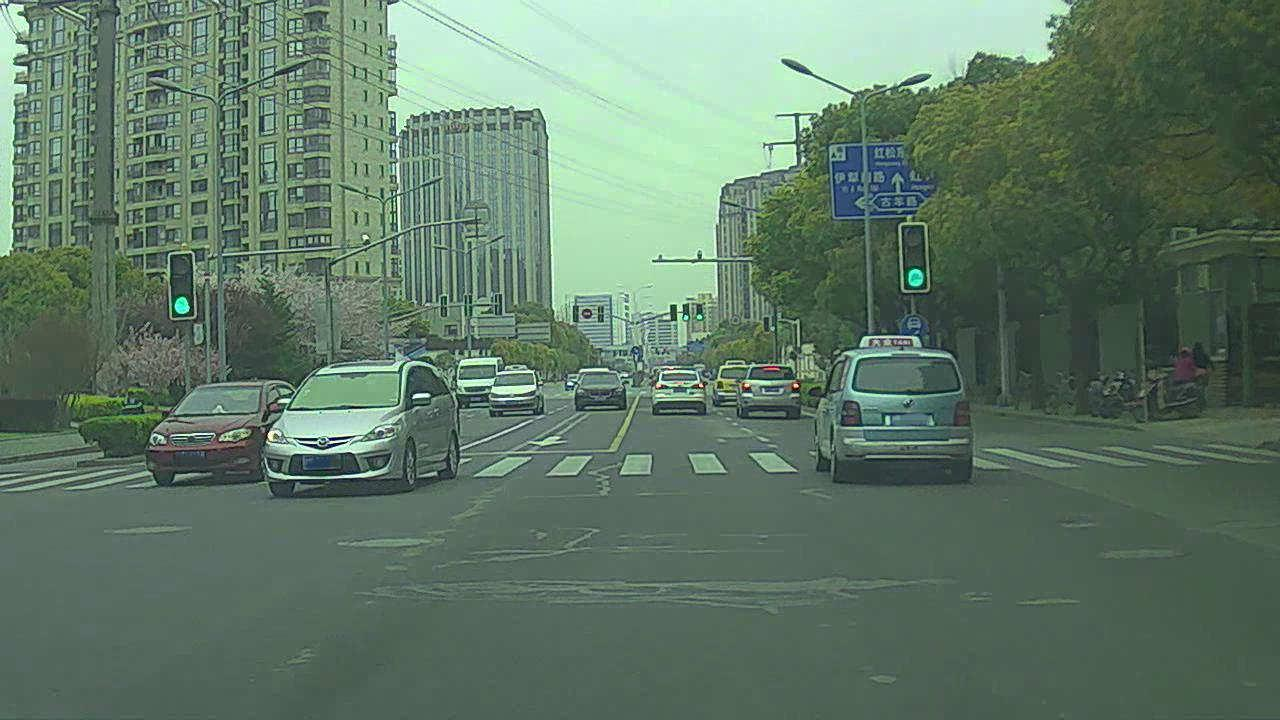traffic_light: (901, 221, 932, 292), (165, 252, 196, 320), (762, 316, 771, 333), (669, 304, 677, 322), (696, 303, 703, 320), (683, 304, 689, 321)
